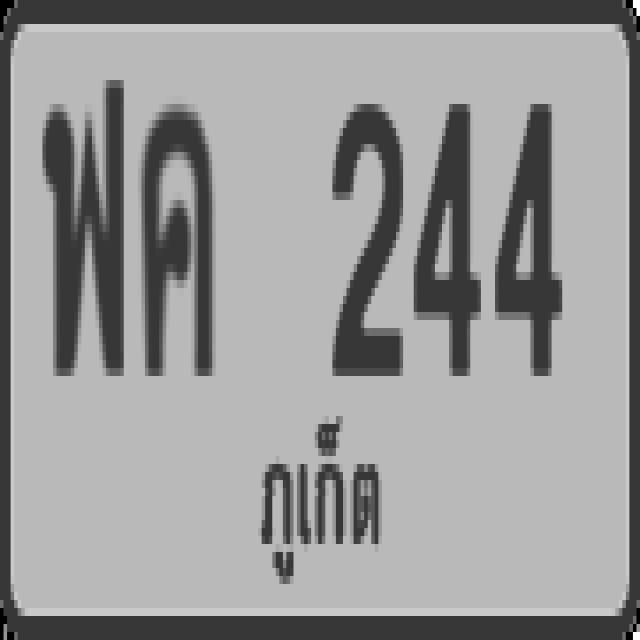13KhorKhwai: (130, 76, 226, 406)
2: (320, 68, 419, 411)
4: (486, 76, 586, 426), (405, 71, 490, 399)
40ForFun: (28, 54, 137, 411)
Phuket: (246, 372, 394, 613)
